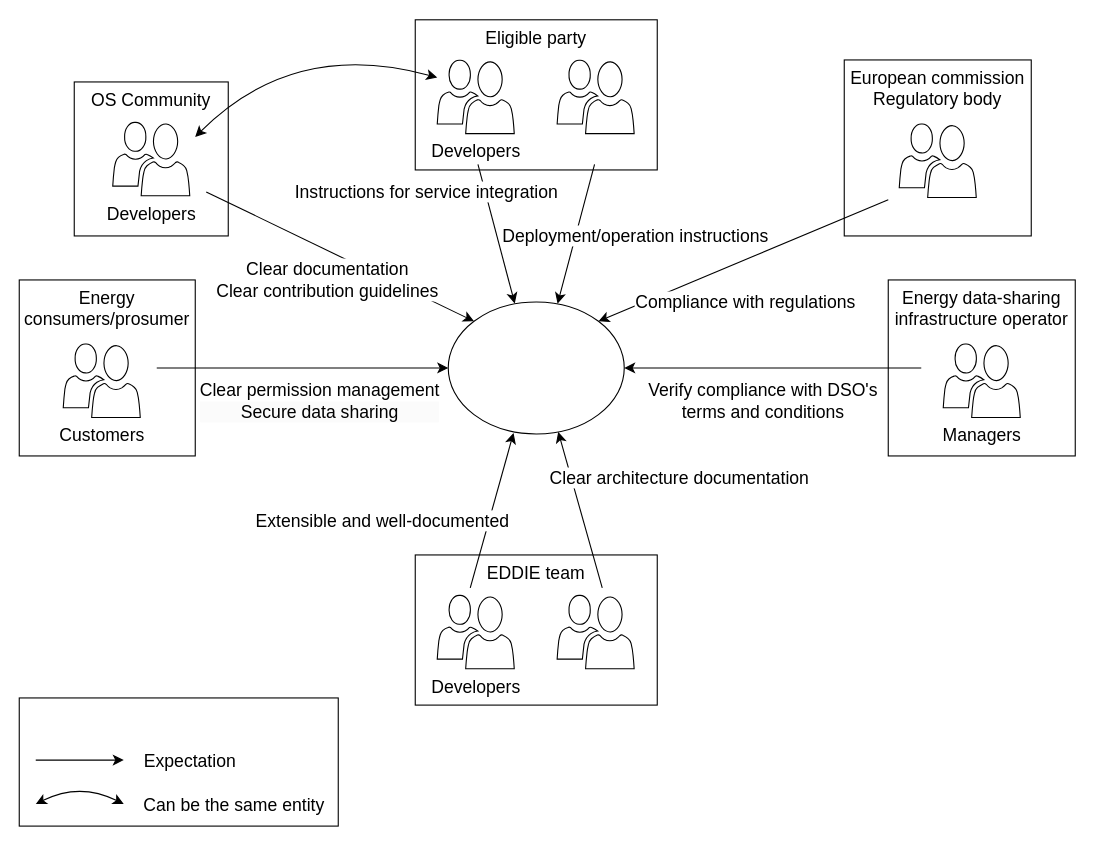
Image size: 1095x845. Some labels were removed from this diagram. Each missing label, with the centre of its shape:
Architects: (595,631)
EDDIE System: (535,367)
Legent: (178,761)
Operators: (595,96)
Reviewers: (937,160)
